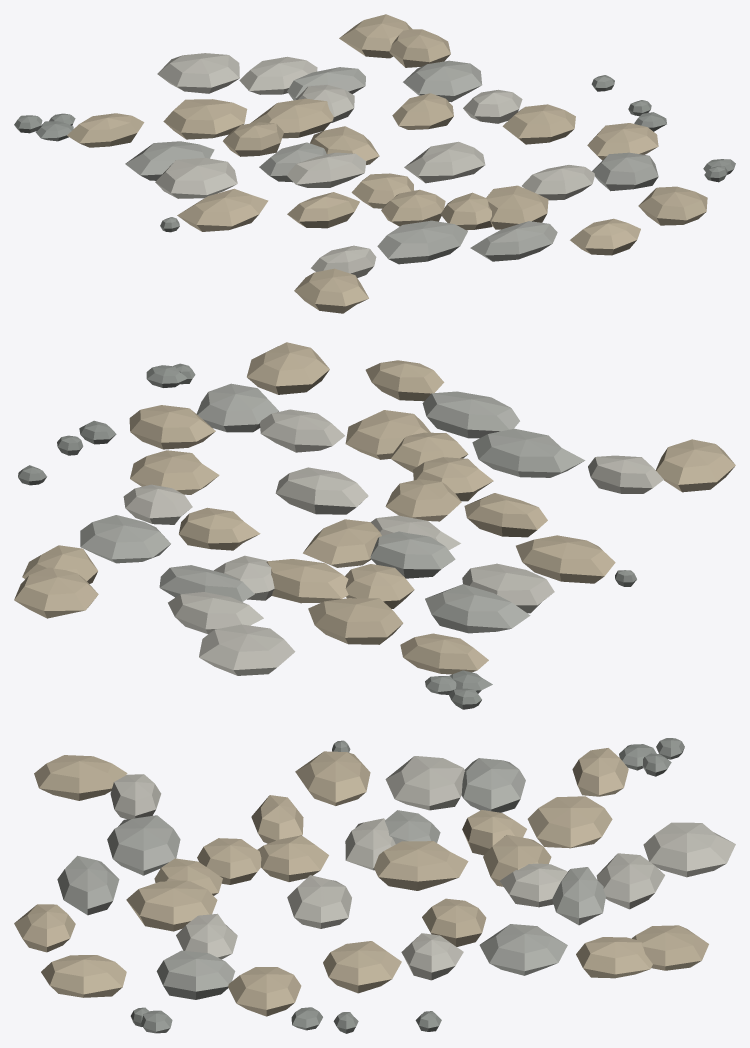
Rendered from Path_Partial_Rustic_2m.fbx.
3 renders of one model, top to bottom at view 1: azimuth 30°, elevation 25°; view 2: azimuth 150°, elevation 25°; view 3: azimuth 270°, elevation 25°, orthographic. The views are drawn at different scales.
Parts seen in each view (by area): view 1: Path_Partial_Rustic_2m; view 2: Path_Partial_Rustic_2m; view 3: Path_Partial_Rustic_2m.
Part boxes in pixels (x1=…): Path_Partial_Rustic_2m: x1=14, y1=14, x2=735, y2=313; Path_Partial_Rustic_2m: x1=14, y1=342, x2=735, y2=709; Path_Partial_Rustic_2m: x1=14, y1=738, x2=735, y2=1033.
Bounding box in the file's own units: 194 × 10 × 204.
